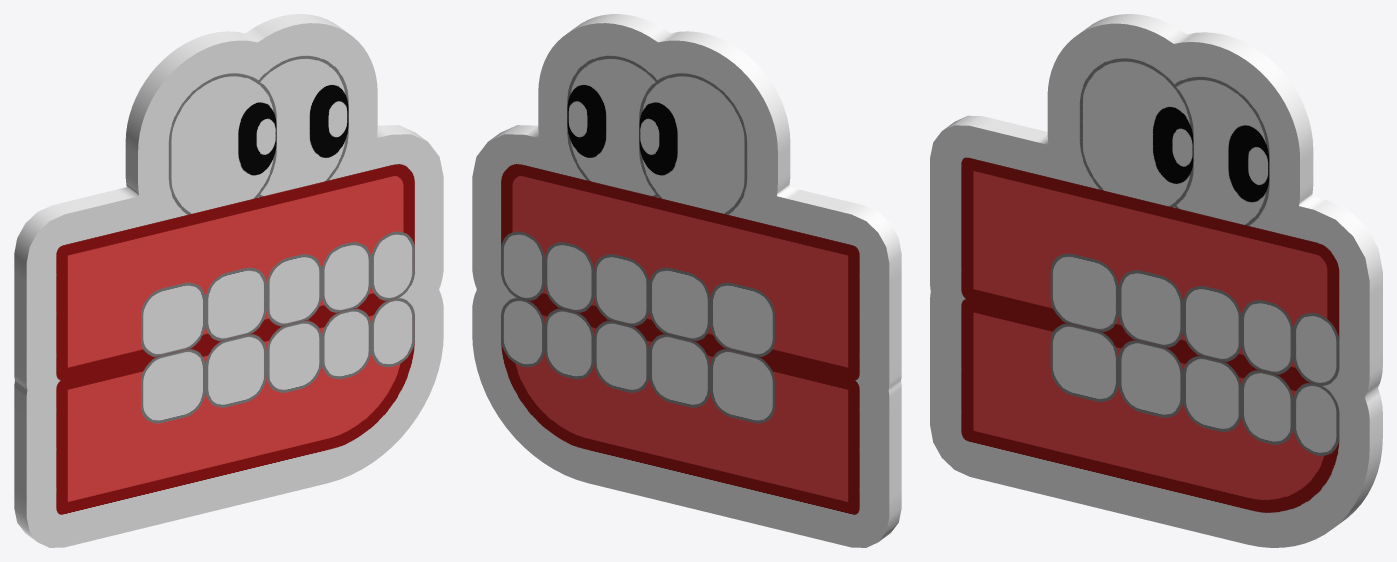
File: teeth_close.glb
3 renders of one model, left to right at view 1: azimuth 30°, elevation 25°; view 2: azimuth 150°, elevation 25°; view 3: azimuth 330°, elevation 25°, orthographic. The views are drawn at different scales.
Parts seen in each view (by area): view 1: Curve.018; view 2: Curve.018; view 3: Curve.018.
Part boxes in pixels (x1=…): Curve.018: x1=14, y1=14, x2=443, y2=547; Curve.018: x1=472, y1=14, x2=901, y2=547; Curve.018: x1=930, y1=14, x2=1382, y2=547.
Size of the model in its own units: 0.2658 by 0.2839 by 0.0138.
Materials: 1 (1 with a texture image).
